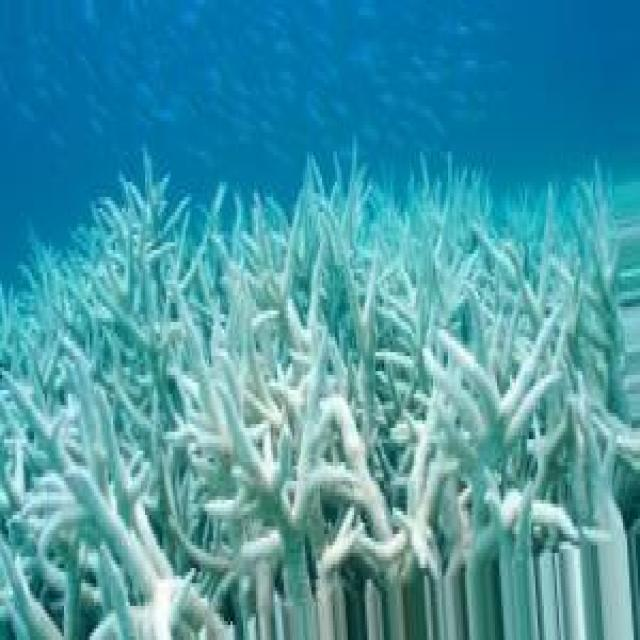bleached coral: (0, 164, 618, 636), (115, 413, 179, 564), (299, 329, 358, 489), (427, 329, 501, 451), (105, 299, 218, 375), (224, 424, 282, 496)
